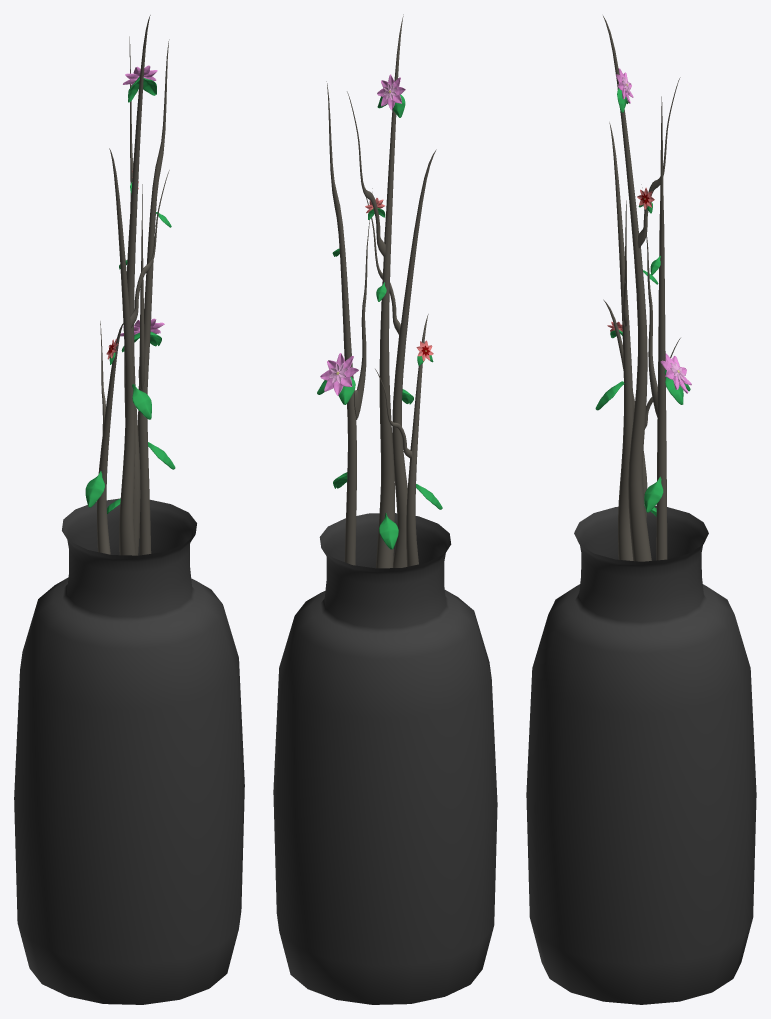
File: Plant 3.fbx
The picture shows the model from 3 angles, left to right: view 1: azimuth 30°, elevation 25°; view 2: azimuth 150°, elevation 25°; view 3: azimuth 270°, elevation 25°; orthographic projection. The views are drawn at different scales.
Parts seen in each view (by area): view 1: nurbsToPoly2, pasted__pCylinder10, pasted__pCylinder9, pasted__pCylinder12, pasted__pCylinder11; view 2: nurbsToPoly2, pasted__pCylinder12, pasted__pCylinder9, pasted__pCylinder10, pasted__pCylinder11; view 3: nurbsToPoly2, pasted__pCylinder12, pasted__pCylinder9, pasted__pCylinder10, pasted__pCylinder11.
Part boxes in pixels (left/top/right/bottom): nurbsToPoly2: left=14, top=498, right=244, bottom=1004; pasted__pCylinder10: left=109, top=148, right=169, bottom=555; pasted__pCylinder9: left=138, top=39, right=169, bottom=555; pasted__pCylinder12: left=124, top=15, right=150, bottom=555; pasted__pCylinder11: left=96, top=321, right=124, bottom=554; nurbsToPoly2: left=273, top=513, right=497, bottom=1004; pasted__pCylinder12: left=347, top=14, right=403, bottom=568; pasted__pCylinder9: left=326, top=81, right=372, bottom=565; pasted__pCylinder10: left=366, top=149, right=436, bottom=567; pasted__pCylinder11: left=375, top=314, right=428, bottom=566; nurbsToPoly2: left=526, top=506, right=756, bottom=1004; pasted__pCylinder12: left=603, top=16, right=680, bottom=561; pasted__pCylinder9: left=641, top=96, right=667, bottom=560; pasted__pCylinder10: left=609, top=122, right=633, bottom=560; pasted__pCylinder11: left=603, top=299, right=680, bottom=519.
Bounding box in the file's own units: 0.9188 × 4.2 × 0.9188.
